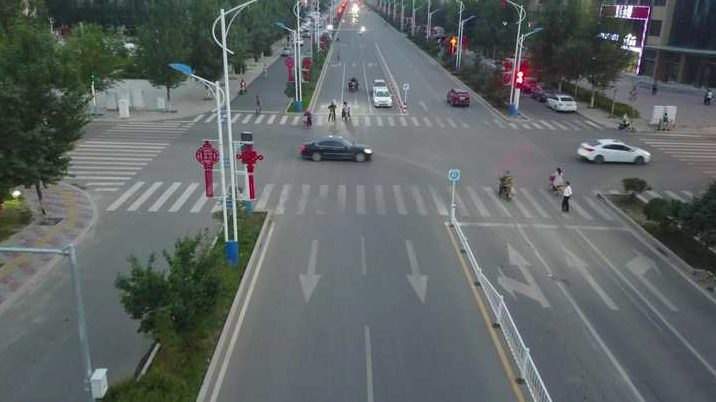bicycle: (255, 99, 261, 117)
car: (298, 136, 373, 162), (576, 140, 652, 164), (547, 95, 577, 113), (445, 88, 470, 108), (530, 85, 556, 102), (370, 79, 389, 99), (373, 89, 392, 108), (516, 76, 538, 92), (488, 60, 505, 71), (282, 47, 294, 56), (294, 38, 303, 47)
motor: (499, 175, 513, 201), (549, 175, 564, 197), (618, 118, 636, 133), (341, 106, 350, 122), (329, 107, 337, 123), (239, 83, 247, 96), (336, 52, 340, 60)
pedestrian: (560, 182, 573, 212), (660, 113, 667, 132), (261, 63, 268, 79), (702, 88, 709, 104), (706, 90, 712, 108), (652, 79, 658, 95), (286, 35, 290, 45), (290, 36, 294, 45)
people: (499, 171, 513, 197), (550, 167, 563, 193), (328, 101, 337, 121), (342, 102, 351, 121), (303, 109, 312, 127), (622, 111, 630, 131), (239, 79, 247, 94), (254, 96, 261, 111), (350, 76, 356, 88), (337, 49, 341, 57)
tricycle: (348, 78, 359, 92)
